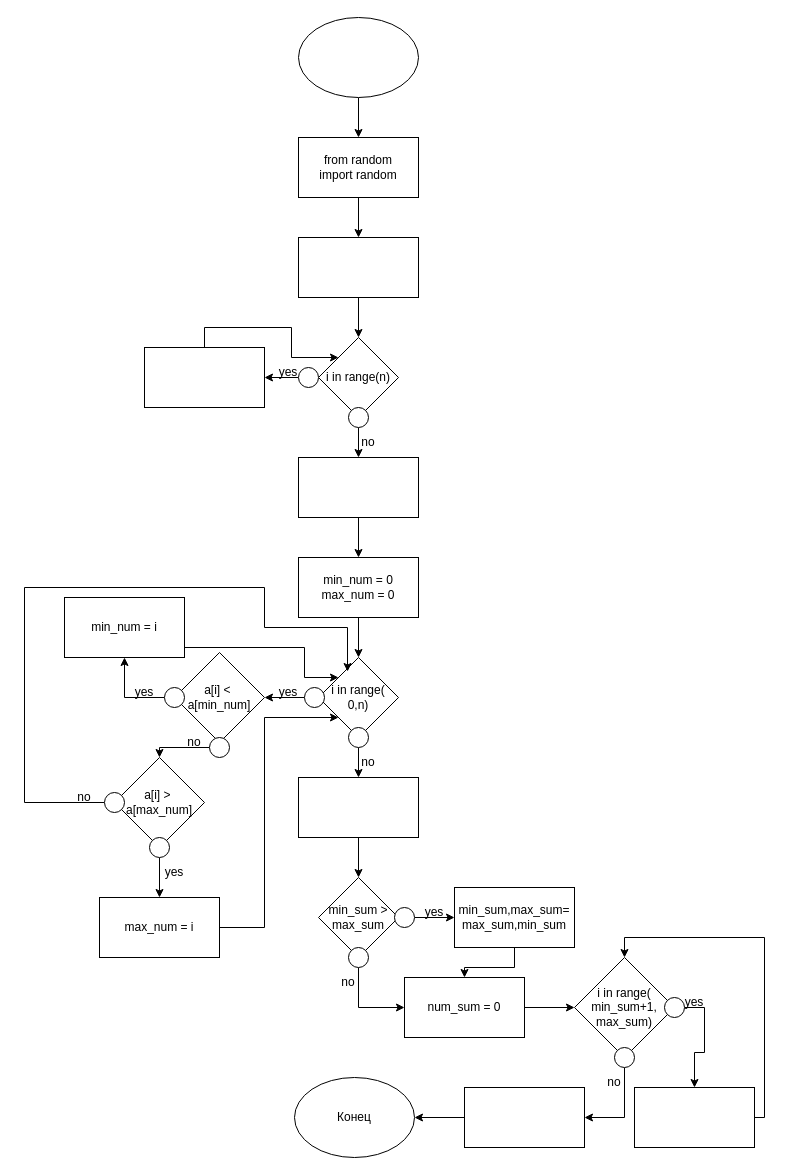
This 790x1175 diagram has some shape labels left out. The shapes that lost their labels are listed below. From the top down, each one's centre as x and y in pixels, then its label:
At point (358, 57): "Начало".
At point (358, 267): "n = int(input()) a = [0] * n".
At point (204, 377): "a[i]=int(random()*21)".
At point (358, 487): "print(array)".
At point (358, 807): "print(min_num, max_num)".
At point (524, 1117): "print(result)".
At point (694, 1117): "num_sum += a[i]".
